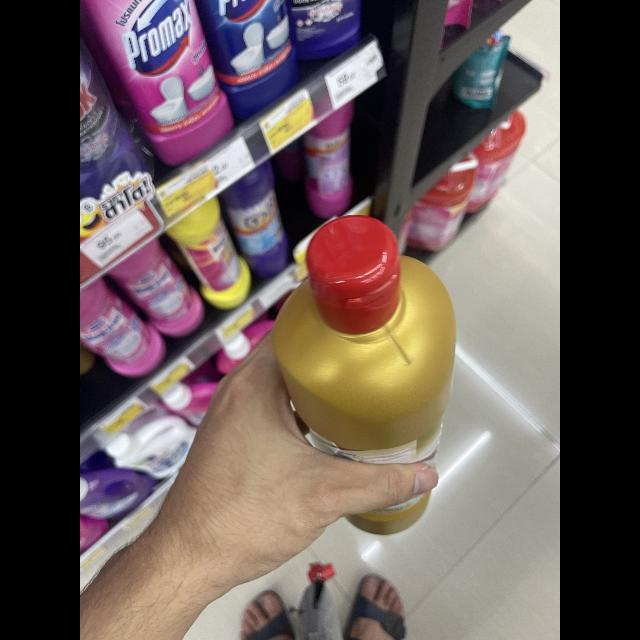chemical_plastic_bottle: (258, 212, 462, 536)
